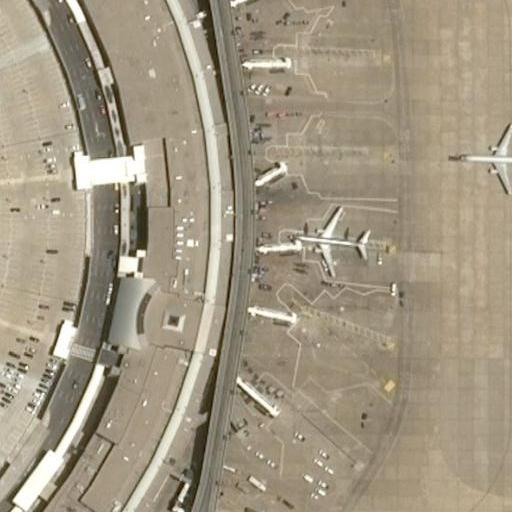Aircraft: (291, 199, 377, 275), (451, 112, 512, 198)
